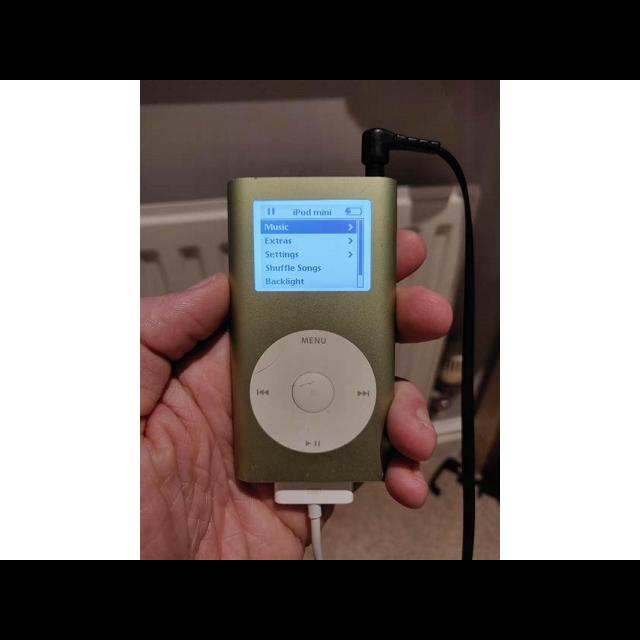Music-Player: (218, 167, 408, 499)
